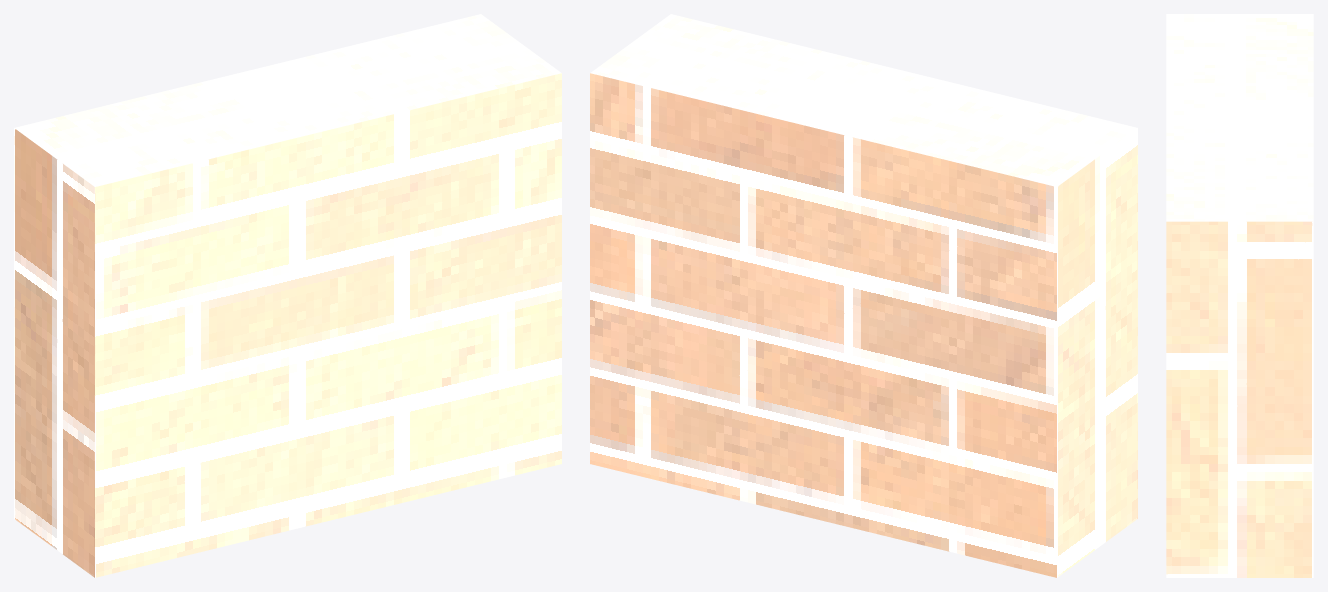
Rendered from brickwall.glb.
3 renders of one model, left to right at view 1: azimuth 30°, elevation 25°; view 2: azimuth 150°, elevation 25°; view 3: azimuth 270°, elevation 25°, orthographic. The views are drawn at different scales.
Parts seen in each view (by area): view 1: brickwall; view 2: brickwall; view 3: brickwall.
Boxes of the visible parts, x1,y1,x2,y2 form: brickwall: [14, 14, 561, 577]; brickwall: [590, 14, 1137, 577]; brickwall: [1166, 14, 1313, 577].
Size of the model in its own units: 2 by 1.6 by 0.6.
